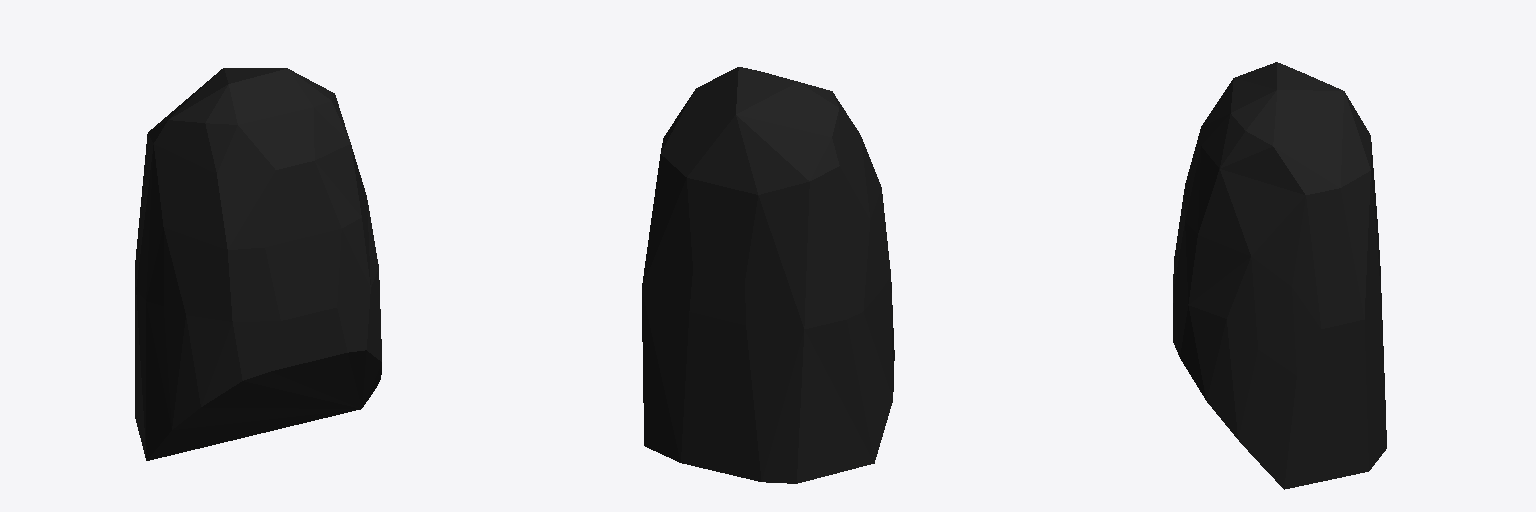
3 views of the same model, side by side, from view 1: azimuth 30°, elevation 25°; view 2: azimuth 150°, elevation 25°; view 3: azimuth 270°, elevation 25° (orthographic).
Parts seen in each view (by area): view 1: th_distal_th_distal_001; view 2: th_distal_th_distal_001; view 3: th_distal_th_distal_001.
Boxes of the visible parts, x1,y1,x2,y2 form: th_distal_th_distal_001: [135, 68, 381, 460]; th_distal_th_distal_001: [642, 67, 894, 483]; th_distal_th_distal_001: [1173, 62, 1386, 489].
Size of the model in its own units: 0.2177 by 0.3485 by 0.187.